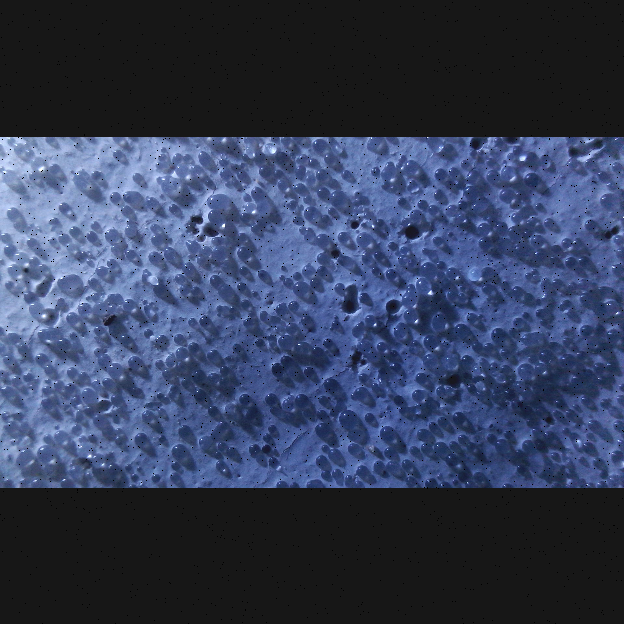GrassBeadSeg: (338, 409, 356, 426), (430, 313, 448, 330), (39, 308, 57, 325), (58, 275, 76, 292), (293, 341, 310, 358), (441, 352, 458, 369), (72, 170, 89, 187), (472, 197, 489, 214), (419, 261, 437, 277), (414, 277, 431, 293), (160, 176, 176, 192), (277, 334, 292, 349), (171, 444, 186, 459), (329, 190, 344, 205), (1, 169, 16, 184), (27, 301, 42, 316), (314, 422, 329, 436), (422, 354, 437, 368), (127, 355, 142, 369), (108, 363, 123, 377), (81, 388, 96, 402), (90, 452, 105, 466), (52, 429, 67, 443), (76, 442, 90, 457), (18, 448, 32, 463), (6, 263, 21, 277), (31, 157, 46, 171), (206, 194, 221, 208), (174, 163, 189, 177), (235, 245, 250, 259), (211, 247, 226, 261), (292, 281, 307, 295), (262, 141, 277, 155), (355, 232, 370, 246), (303, 206, 317, 221), (311, 138, 325, 153), (181, 261, 196, 275), (300, 264, 315, 278), (314, 233, 329, 247), (147, 251, 162, 265), (422, 335, 437, 349), (356, 339, 371, 353), (393, 324, 408, 338), (453, 323, 468, 337), (517, 363, 532, 377), (490, 327, 505, 341), (366, 136, 381, 150), (323, 377, 337, 391), (294, 393, 308, 407), (379, 425, 393, 439), (411, 388, 425, 402), (198, 435, 212, 449), (133, 432, 147, 446), (104, 228, 118, 242), (123, 223, 137, 237), (218, 283, 232, 297), (207, 209, 221, 223), (354, 386, 368, 400), (403, 308, 417, 322), (401, 292, 415, 306), (559, 353, 573, 367), (428, 138, 442, 152), (37, 446, 51, 460), (538, 154, 551, 168), (468, 267, 481, 280), (477, 236, 490, 249), (444, 204, 457, 217), (433, 168, 446, 181), (558, 299, 571, 312), (346, 442, 359, 455), (463, 185, 476, 198), (485, 169, 498, 182), (523, 172, 536, 185), (499, 188, 512, 201), (500, 166, 513, 179), (517, 152, 530, 165), (599, 193, 612, 206), (506, 225, 519, 238), (596, 285, 609, 298), (409, 208, 421, 222), (477, 222, 489, 235), (583, 219, 596, 231), (466, 170, 479, 182), (563, 256, 576, 268), (603, 300, 616, 312), (578, 324, 591, 336), (605, 328, 618, 340), (537, 349, 550, 361), (586, 419, 599, 431), (521, 439, 534, 451), (451, 411, 464, 423), (415, 428, 428, 440), (445, 453, 458, 465), (382, 446, 395, 458), (327, 448, 340, 460), (355, 465, 368, 477), (385, 460, 398, 472), (314, 454, 327, 466), (77, 302, 89, 315), (6, 206, 18, 219), (530, 235, 543, 247), (610, 263, 623, 275), (578, 292, 591, 304), (510, 286, 523, 298), (481, 266, 494, 278), (406, 180, 419, 192), (609, 450, 622, 462), (264, 392, 276, 404), (238, 393, 250, 405), (280, 354, 292, 366), (270, 362, 282, 374), (193, 388, 205, 400), (206, 404, 218, 416), (142, 410, 154, 422), (92, 414, 104, 426), (97, 353, 109, 365), (14, 251, 26, 263), (12, 142, 24, 154), (175, 347, 187, 359), (206, 349, 218, 361), (607, 474, 619, 486), (192, 370, 203, 382), (207, 372, 218, 384), (178, 424, 189, 436), (3, 244, 14, 256), (58, 232, 69, 244), (197, 150, 208, 162), (258, 165, 269, 177), (150, 233, 161, 245), (511, 380, 523, 391), (460, 354, 472, 365), (465, 312, 477, 323), (419, 442, 431, 453), (400, 459, 412, 470), (433, 441, 445, 452), (482, 342, 494, 353), (470, 341, 482, 352), (414, 372, 426, 383), (550, 278, 562, 289), (360, 250, 372, 261), (332, 282, 344, 293), (299, 315, 311, 326), (285, 322, 297, 333), (363, 313, 375, 324), (281, 399, 292, 410), (534, 362, 545, 373), (592, 362, 603, 373), (521, 333, 532, 344), (494, 439, 505, 450), (499, 347, 510, 358), (481, 283, 492, 294), (445, 267, 456, 278), (384, 269, 395, 280), (508, 198, 519, 209), (445, 289, 456, 300), (316, 252, 327, 263), (287, 300, 298, 311), (376, 340, 387, 351), (357, 371, 368, 382), (302, 366, 313, 377), (322, 337, 333, 348), (363, 412, 374, 423), (198, 315, 209, 326), (161, 368, 172, 379), (56, 337, 67, 348), (424, 476, 435, 487), (404, 476, 415, 487), (220, 167, 230, 179), (245, 201, 255, 213), (251, 186, 261, 198), (294, 182, 304, 194), (179, 283, 189, 295), (470, 365, 482, 375), (371, 322, 383, 332), (330, 468, 342, 478), (372, 461, 384, 471), (472, 472, 484, 482), (0, 232, 10, 243), (277, 179, 287, 190), (120, 204, 131, 214), (190, 163, 201, 173), (302, 193, 313, 203), (327, 177, 338, 187), (432, 189, 443, 199), (484, 157, 495, 167), (337, 231, 348, 241), (274, 304, 285, 314), (310, 346, 321, 356), (320, 469, 330, 480), (248, 443, 258, 454), (226, 446, 236, 457), (173, 333, 183, 344), (180, 378, 190, 389), (164, 355, 174, 366), (219, 364, 229, 375), (236, 281, 246, 292), (239, 298, 249, 309), (254, 337, 264, 348), (231, 342, 241, 353), (66, 313, 76, 324), (87, 276, 97, 287), (101, 377, 111, 388), (44, 364, 54, 375), (34, 353, 45, 363), (52, 380, 63, 390), (41, 385, 51, 396), (70, 394, 80, 405), (70, 424, 80, 435), (110, 393, 120, 404), (3, 279, 13, 290), (28, 256, 38, 267), (36, 262, 46, 273), (26, 236, 36, 247), (200, 245, 210, 256), (236, 232, 246, 243), (316, 265, 326, 276), (164, 248, 174, 259), (0, 386, 10, 397), (21, 372, 32, 382), (16, 342, 26, 353), (37, 328, 47, 339), (0, 411, 10, 422), (42, 433, 52, 444), (11, 374, 21, 385), (23, 291, 33, 302), (510, 212, 521, 222), (578, 255, 589, 265), (612, 234, 623, 244), (431, 235, 442, 245), (512, 317, 523, 327), (570, 373, 581, 383), (596, 375, 607, 385), (581, 441, 592, 451), (591, 456, 602, 466), (564, 408, 575, 418), (542, 430, 553, 440), (503, 388, 514, 398), (455, 214, 466, 224), (86, 230, 96, 240), (109, 192, 119, 202), (49, 163, 59, 173), (239, 212, 249, 222), (294, 164, 304, 174), (307, 157, 317, 167), (340, 169, 350, 179), (317, 186, 327, 196), (380, 169, 390, 179), (448, 166, 458, 176), (260, 443, 270, 453), (267, 457, 277, 467), (215, 460, 225, 470), (188, 342, 198, 352), (156, 335, 166, 345), (93, 325, 103, 335), (209, 275, 219, 285), (238, 266, 248, 276), (257, 269, 267, 279), (242, 318, 252, 328), (258, 310, 268, 320), (120, 334, 130, 344), (123, 299, 133, 309), (78, 373, 88, 383), (66, 367, 76, 377), (41, 398, 51, 408), (64, 383, 74, 393), (75, 251, 85, 261), (309, 278, 319, 288), (188, 241, 198, 251), (1, 354, 11, 364), (7, 332, 17, 342), (584, 158, 594, 168), (611, 162, 621, 172), (543, 217, 553, 227), (494, 221, 504, 231), (521, 227, 531, 237), (540, 276, 550, 286), (359, 292, 369, 302), (337, 254, 347, 264), (528, 216, 538, 226), (599, 397, 609, 407), (554, 398, 564, 408), (534, 406, 544, 416), (551, 409, 561, 419), (575, 350, 585, 360), (593, 342, 603, 352), (457, 434, 467, 444), (171, 153, 182, 162), (236, 170, 247, 179), (272, 168, 283, 177), (315, 169, 326, 178), (323, 153, 334, 162), (416, 199, 427, 208), (560, 238, 571, 247), (596, 171, 607, 180), (572, 237, 583, 246), (514, 189, 525, 198), (485, 213, 496, 222), (456, 200, 467, 209), (427, 205, 438, 214), (404, 283, 415, 292), (579, 395, 590, 404), (604, 360, 615, 369), (526, 418, 537, 427), (499, 364, 510, 373), (409, 341, 420, 350), (95, 266, 104, 276), (124, 249, 133, 259), (149, 222, 158, 232), (195, 255, 204, 265), (190, 285, 199, 295), (131, 172, 140, 182), (90, 170, 99, 180), (58, 202, 68, 211), (69, 226, 79, 235), (123, 191, 133, 200), (146, 197, 156, 206), (404, 160, 414, 169), (567, 158, 577, 167), (606, 180, 616, 189), (550, 245, 560, 254), (397, 255, 407, 264), (533, 249, 543, 258), (513, 242, 523, 251), (535, 308, 545, 317), (561, 337, 571, 346), (613, 420, 623, 429), (437, 417, 447, 426), (435, 386, 445, 395), (487, 363, 497, 372), (174, 273, 183, 282), (112, 149, 121, 158), (370, 166, 379, 175), (90, 220, 99, 229), (48, 236, 57, 245), (12, 220, 21, 229), (90, 292, 99, 301), (55, 296, 64, 305), (48, 216, 57, 225), (5, 136, 14, 145), (27, 171, 36, 180), (110, 244, 119, 253), (332, 143, 341, 152), (168, 203, 176, 213), (384, 161, 394, 169), (396, 197, 406, 205), (106, 258, 114, 267), (154, 161, 163, 169), (320, 214, 329, 222), (291, 216, 300, 224), (274, 325, 282, 333), (24, 149, 32, 157), (242, 192, 250, 200), (288, 200, 296, 208), (250, 223, 258, 231), (256, 216, 264, 224), (93, 347, 101, 355), (427, 421, 435, 429), (397, 405, 405, 413), (369, 382, 377, 390), (269, 406, 277, 414), (512, 145, 520, 153), (144, 328, 151, 337), (182, 153, 191, 160), (210, 237, 219, 244), (218, 158, 227, 165), (188, 317, 195, 325), (215, 304, 222, 312), (228, 305, 235, 313), (159, 308, 166, 316), (157, 153, 165, 160), (204, 179, 212, 186), (327, 207, 335, 214), (387, 241, 395, 248), (399, 246, 407, 253), (370, 266, 378, 273), (436, 261, 444, 268), (293, 271, 300, 279), (283, 278, 291, 285), (304, 174, 312, 181), (156, 391, 163, 399), (92, 378, 100, 385), (458, 292, 465, 300), (478, 357, 486, 364), (448, 441, 456, 448), (485, 433, 493, 440), (503, 429, 510, 437), (198, 273, 206, 280), (390, 362, 398, 369), (409, 445, 417, 452), (550, 451, 558, 458), (577, 456, 585, 463), (514, 449, 522, 456), (584, 432, 592, 439), (464, 480, 472, 487), (465, 441, 473, 448), (344, 474, 352, 481), (320, 444, 328, 451), (303, 409, 311, 416), (318, 395, 326, 402), (266, 334, 274, 341), (389, 350, 397, 357), (298, 225, 305, 232), (238, 161, 245, 168), (375, 218, 382, 225), (395, 161, 402, 168), (506, 153, 513, 160), (493, 136, 500, 143), (374, 251, 381, 258), (370, 222, 377, 229), (299, 154, 306, 161), (331, 320, 338, 327), (155, 359, 162, 366), (170, 383, 177, 390), (168, 390, 175, 397), (441, 342, 448, 349), (459, 283, 466, 290), (467, 383, 474, 390), (475, 390, 482, 397), (561, 427, 568, 434), (565, 470, 572, 477), (516, 464, 523, 471), (458, 472, 465, 479), (472, 448, 479, 455), (354, 480, 361, 487), (268, 424, 275, 431), (262, 433, 269, 440), (317, 410, 324, 417), (218, 421, 225, 428), (156, 407, 164, 413), (157, 435, 165, 441), (135, 465, 143, 471), (83, 472, 91, 478), (167, 472, 175, 478), (31, 478, 39, 484), (19, 477, 27, 483), (74, 409, 82, 415), (305, 227, 311, 234), (241, 153, 247, 160), (231, 178, 237, 185), (224, 180, 230, 187), (281, 136, 287, 143), (289, 152, 295, 159), (353, 190, 359, 197), (390, 184, 396, 191), (398, 155, 405, 161), (381, 182, 387, 189), (402, 217, 408, 224), (297, 204, 303, 211), (469, 149, 475, 156), (477, 149, 483, 156), (446, 230, 452, 237), (421, 247, 427, 254), (217, 442, 224, 448), (114, 427, 121, 433), (87, 433, 94, 439), (78, 435, 85, 441), (114, 435, 121, 441), (124, 464, 131, 470), (130, 473, 137, 479), (151, 473, 158, 479), (171, 461, 178, 467), (43, 377, 50, 383), (84, 405, 91, 411), (71, 465, 78, 471), (243, 136, 249, 143), (363, 211, 370, 217), (460, 159, 466, 166), (455, 180, 461, 187), (230, 163, 236, 169), (85, 258, 91, 264), (245, 147, 251, 153), (535, 203, 541, 209), (583, 209, 589, 215), (524, 272, 530, 278), (530, 268, 536, 274), (532, 274, 538, 280), (567, 282, 573, 288), (578, 278, 584, 284), (500, 280, 506, 286), (521, 311, 527, 317), (508, 327, 514, 333), (527, 356, 533, 362), (477, 313, 483, 319), (572, 403, 578, 409), (251, 291, 257, 296), (156, 176, 161, 182), (160, 146, 165, 152), (539, 319, 545, 324), (287, 394, 293, 399), (99, 289, 104, 294), (141, 299, 146, 304), (148, 301, 153, 306), (248, 310, 253, 315), (278, 274, 283, 279), (280, 264, 285, 269), (142, 268, 147, 273), (85, 295, 89, 300), (109, 303, 113, 308), (107, 294, 111, 298)
